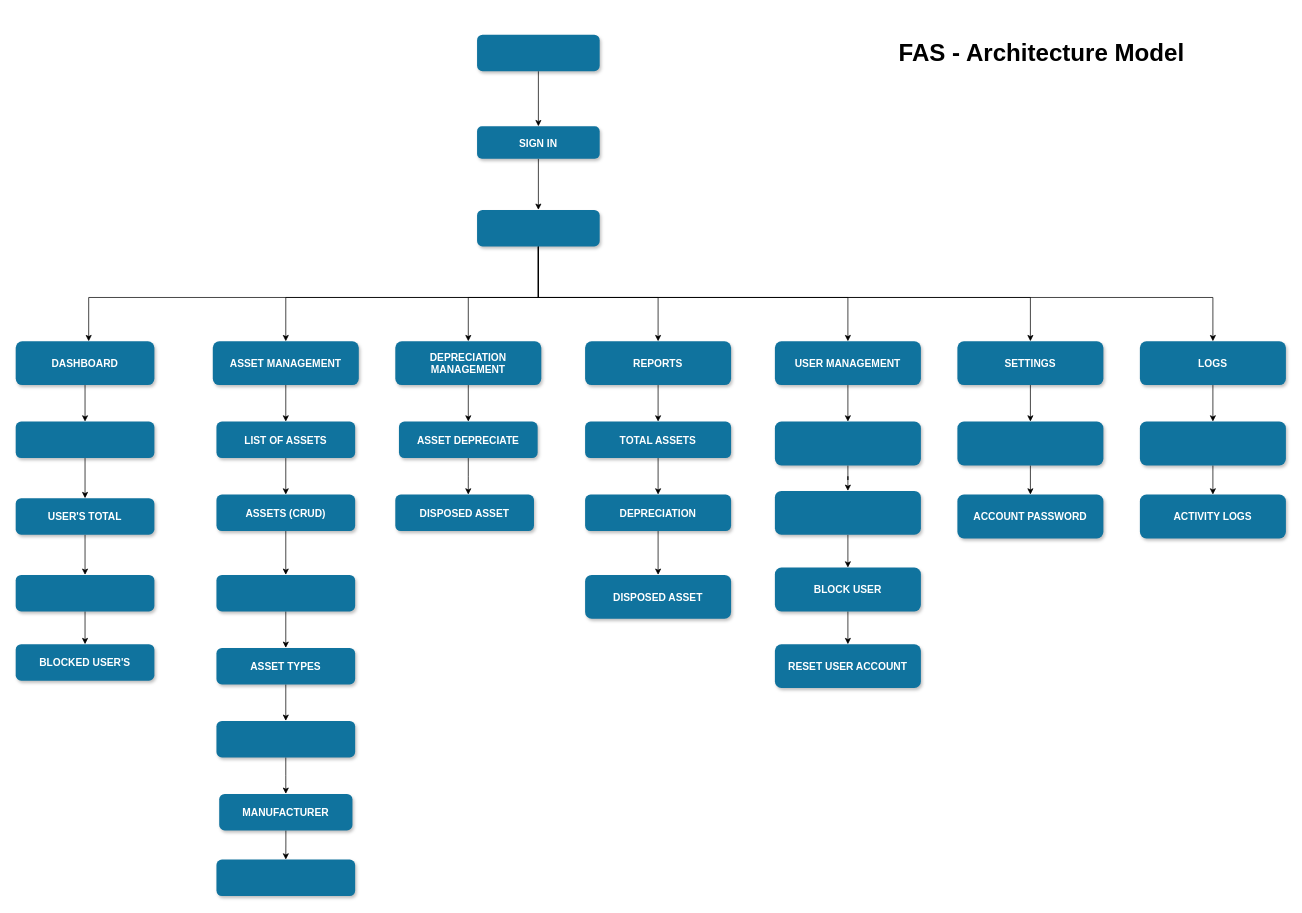
This 1302x913 diagram has some shape labels left out. Here are the shapes that lost their labels. From the top down, the centre of each, then its label:
At [539,53]: "FLASH SCREEN".
At [539,229]: "MENU LIST".
At [85,440]: "ASSETS TOTAL".
At [848,444]: "LIST OF USERS".
At [1030,444]: "USER PROFILE".
At [1213,444]: "USER LOGS".
At [848,513]: "ADD USER".
At [85,594]: "ACTIVE USER'S".
At [286,594]: "ASSIGNED ASSET".
At [286,740]: "SUPPLIER".
At [286,878]: "ASSET MODEL".
